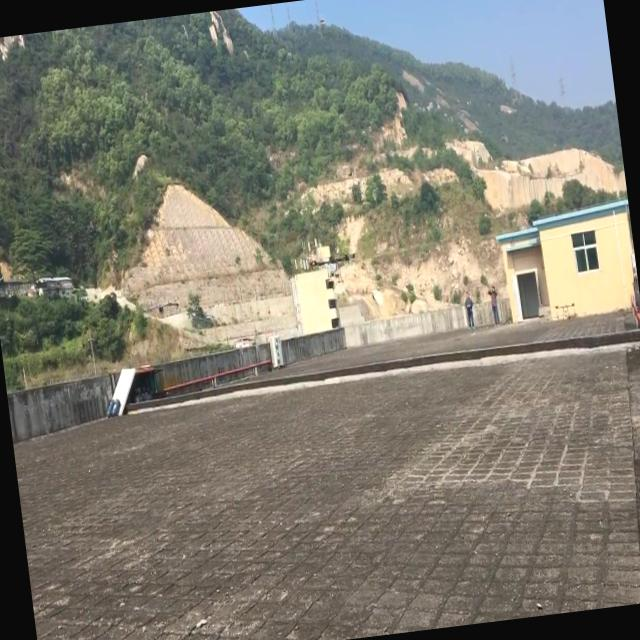drone: (306, 250, 359, 288)
